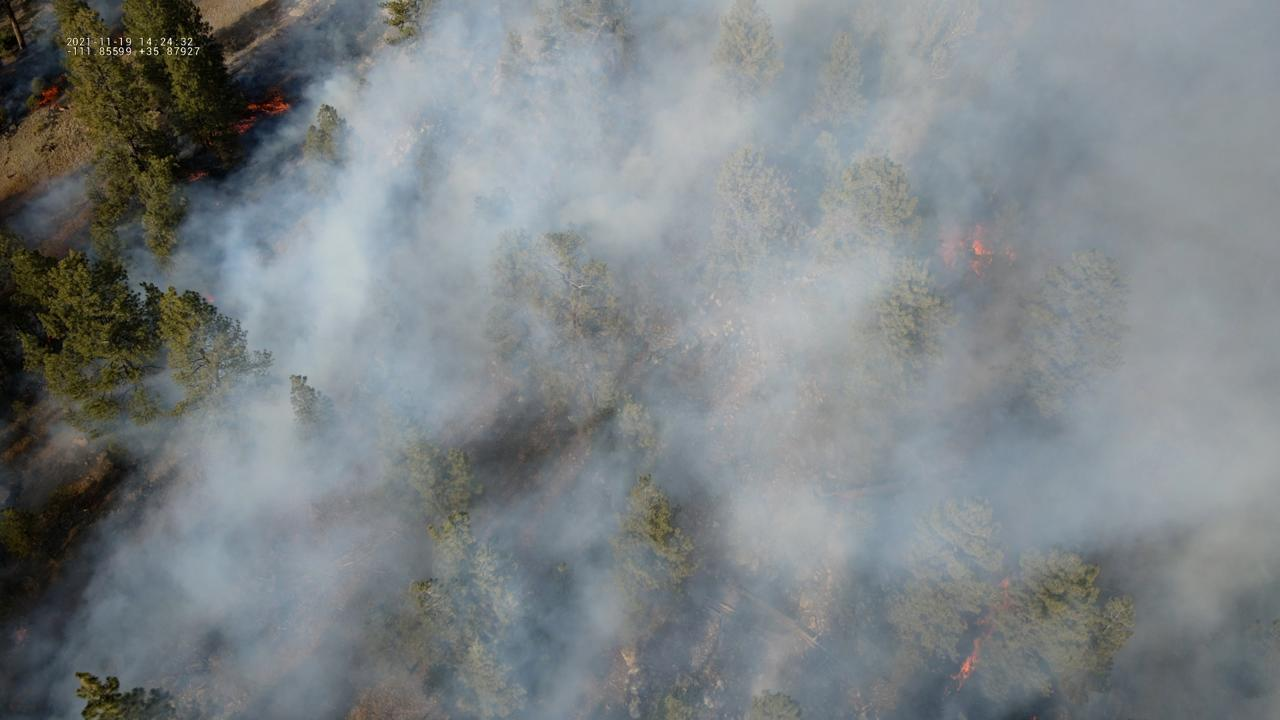fire: (931, 224, 995, 278), (948, 637, 982, 695), (244, 85, 291, 115), (33, 81, 61, 109), (228, 115, 258, 137), (998, 575, 1013, 613), (181, 167, 211, 184), (1004, 243, 1016, 262)
smoke: (0, 0, 1280, 720)
